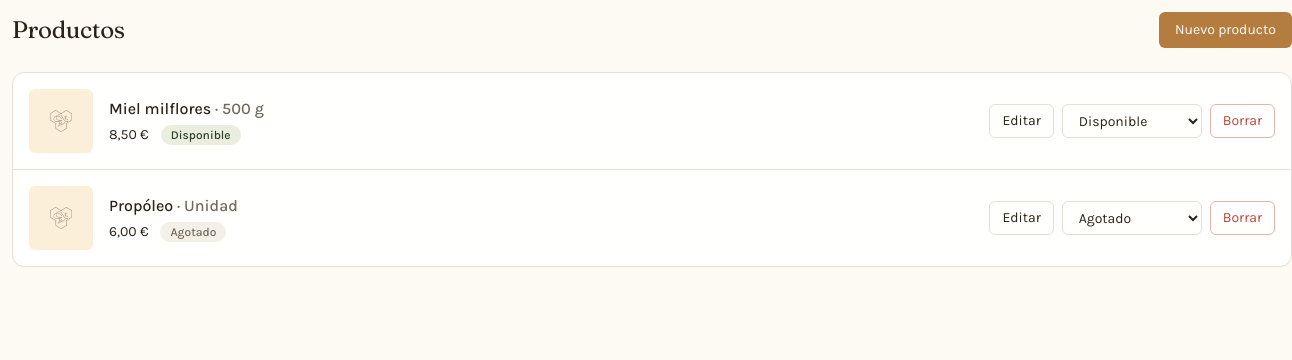
Test: AdminProductsView › marca un producto como agotado desde el desplegable y lo confirma
Select "Agotado" in the dropdown named "Disponibilidad de Miel milflores (500 g)" at (1132, 121), box top-left (1062, 104), bottom-right (1202, 138)
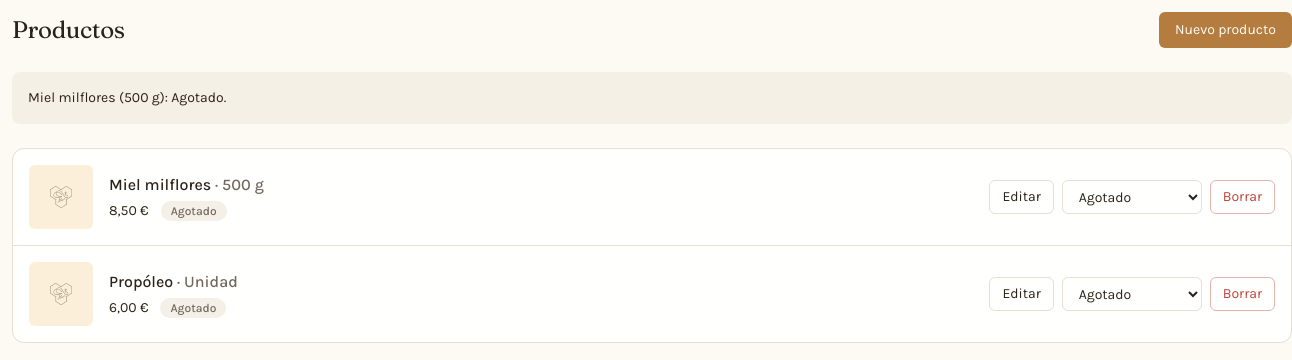
Check: the message "Miel milflores (500 g): Agotado." is shown, box top-left (12, 72), bottom-right (1291, 124)
